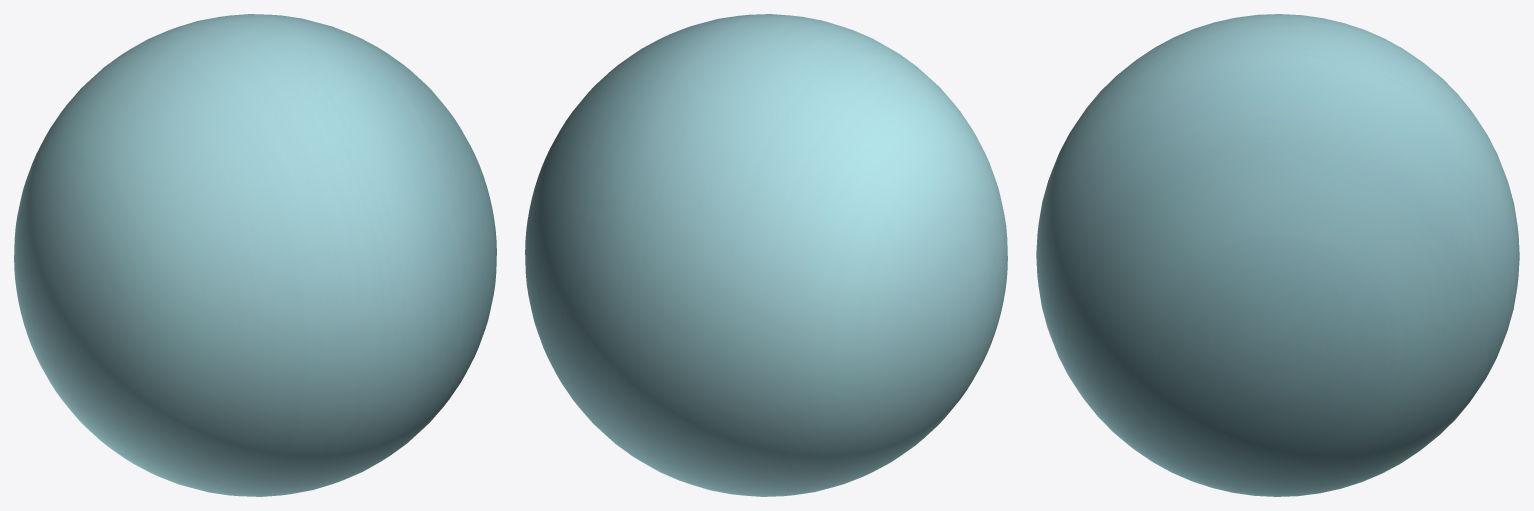
File: uranus.glb
The picture shows the model from 3 angles, left to right: view 1: azimuth 30°, elevation 25°; view 2: azimuth 150°, elevation 25°; view 3: azimuth 270°, elevation 25°; orthographic projection.
Visible parts, largest first — view 1: uranus; view 2: uranus; view 3: uranus.
Part boxes in pixels (x1=…): uranus: x1=14, y1=14, x2=496, y2=496; uranus: x1=525, y1=14, x2=1007, y2=496; uranus: x1=1036, y1=14, x2=1519, y2=496.
Bounding box in the file's own units: 5.7 × 5.7 × 5.7.
Materials: 1 (1 with a texture image).
